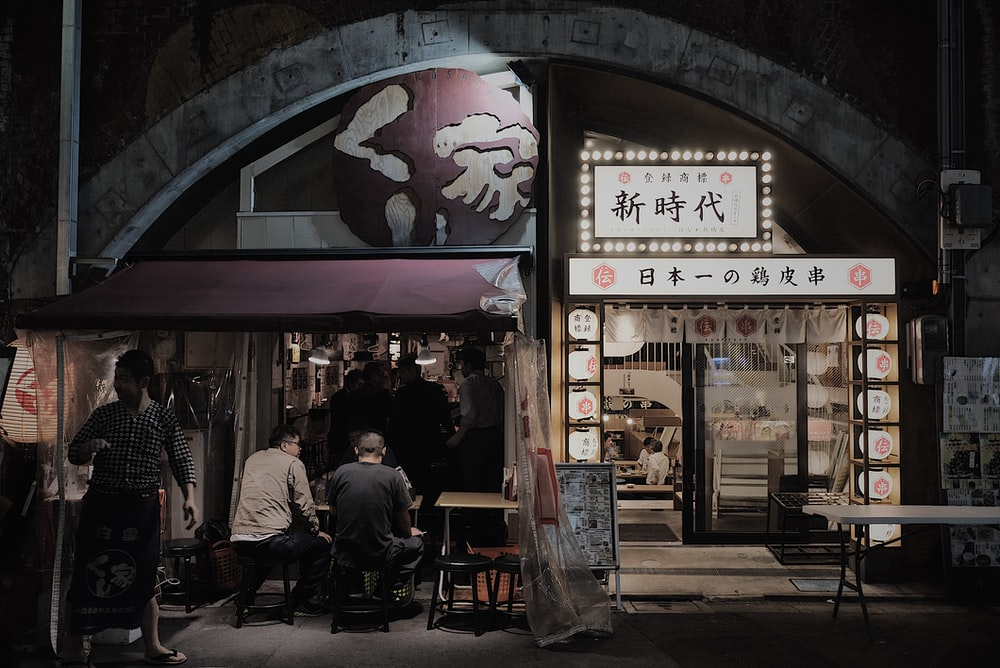face: (107, 352, 155, 419), (265, 412, 303, 464), (356, 428, 398, 475), (454, 347, 497, 385), (354, 358, 394, 396), (391, 351, 429, 389), (331, 363, 371, 394), (631, 432, 675, 453)
